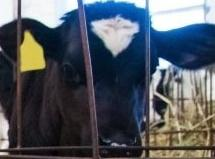muzzles: (82, 127, 148, 157)
